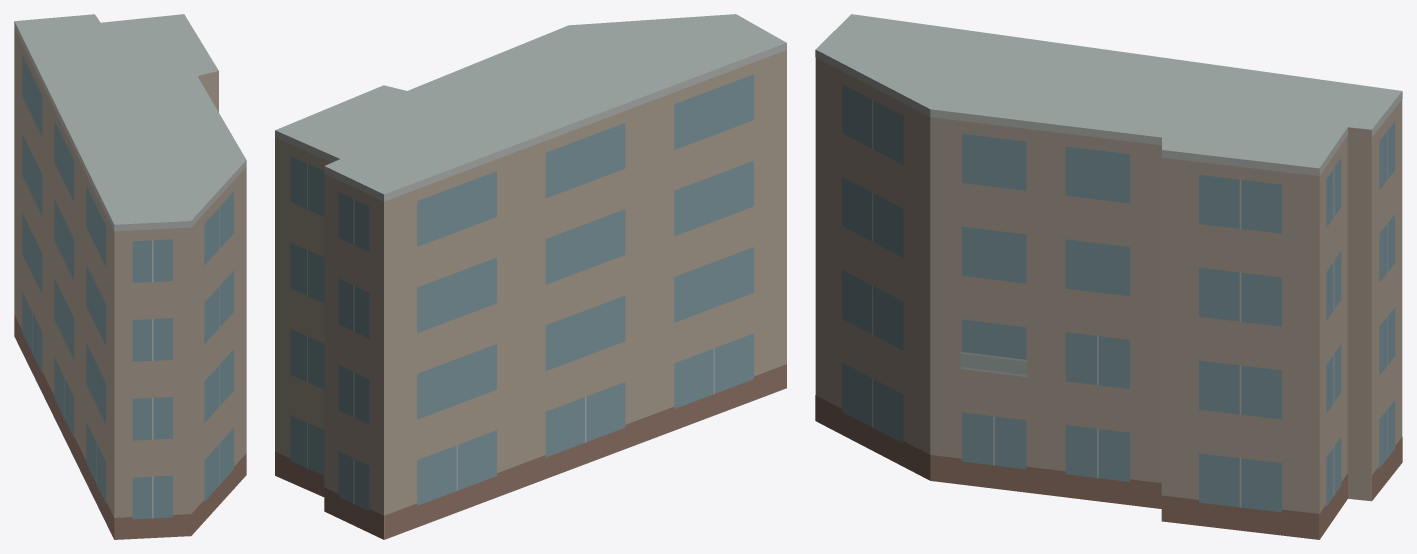
The model's file is survey-upis-32458170.glb.
3 renders of one model, left to right at view 1: azimuth 30°, elevation 25°; view 2: azimuth 150°, elevation 25°; view 3: azimuth 270°, elevation 25°, orthographic. The views are drawn at different scales.
Parts seen in each view (by area): view 1: survey-upis-32458170.tmp; view 2: survey-upis-32458170.tmp; view 3: survey-upis-32458170.tmp.
Boxes of the visible parts, left/top/right/bottom form: survey-upis-32458170.tmp: left=14, top=14, right=246, bottom=539; survey-upis-32458170.tmp: left=275, top=14, right=786, bottom=539; survey-upis-32458170.tmp: left=815, top=14, right=1402, bottom=539.
Size of the model in its own units: 10.35 by 11.6 by 16.62.
